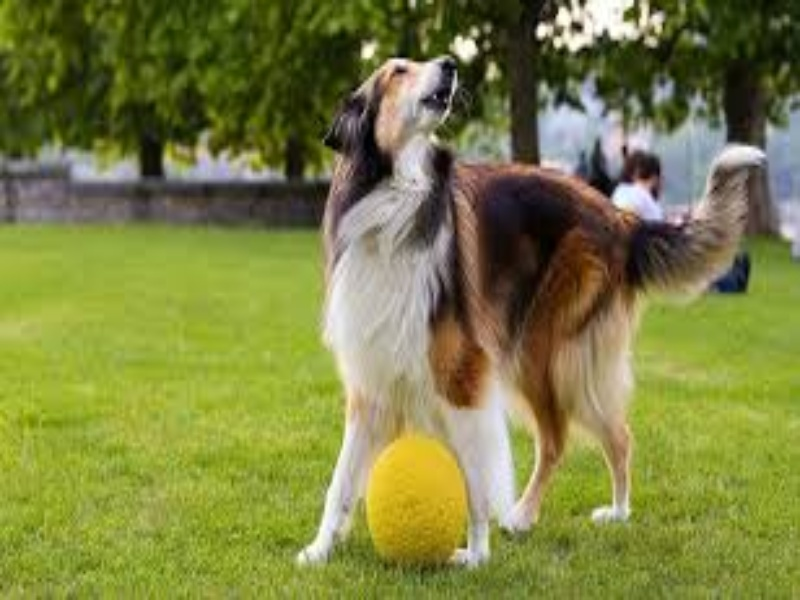dog: (252, 32, 770, 560)
